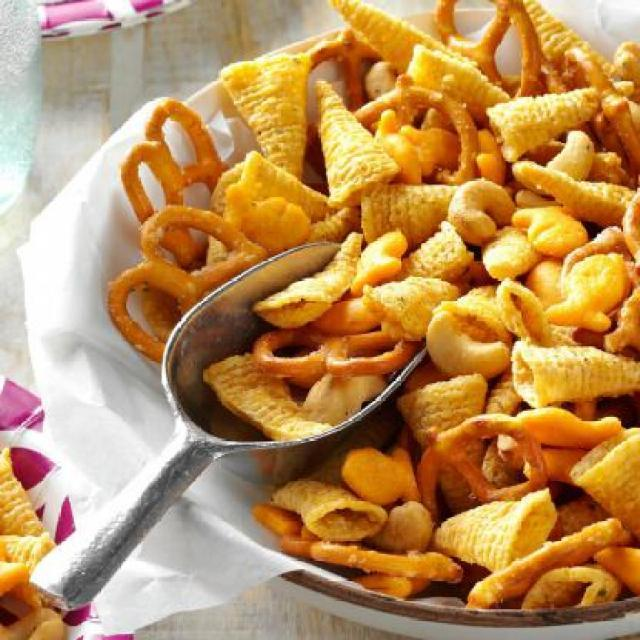Salatini packaged: (158, 48, 640, 600)
